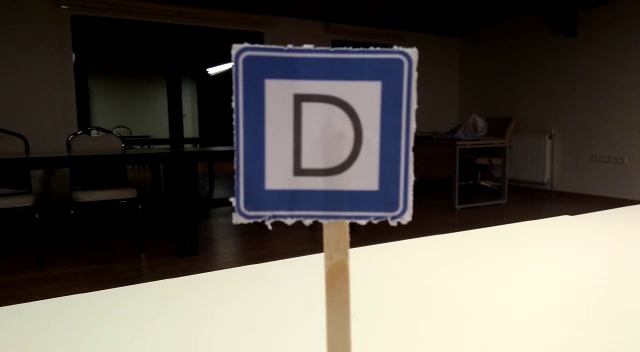durak: (233, 48, 413, 221)
